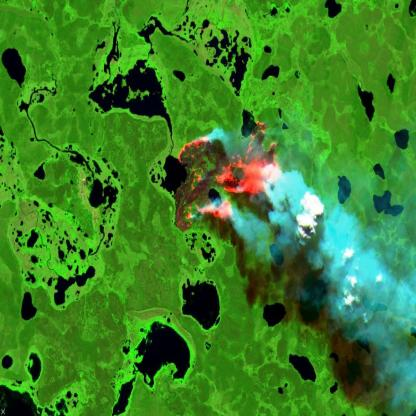fire: (173, 119, 287, 235)
